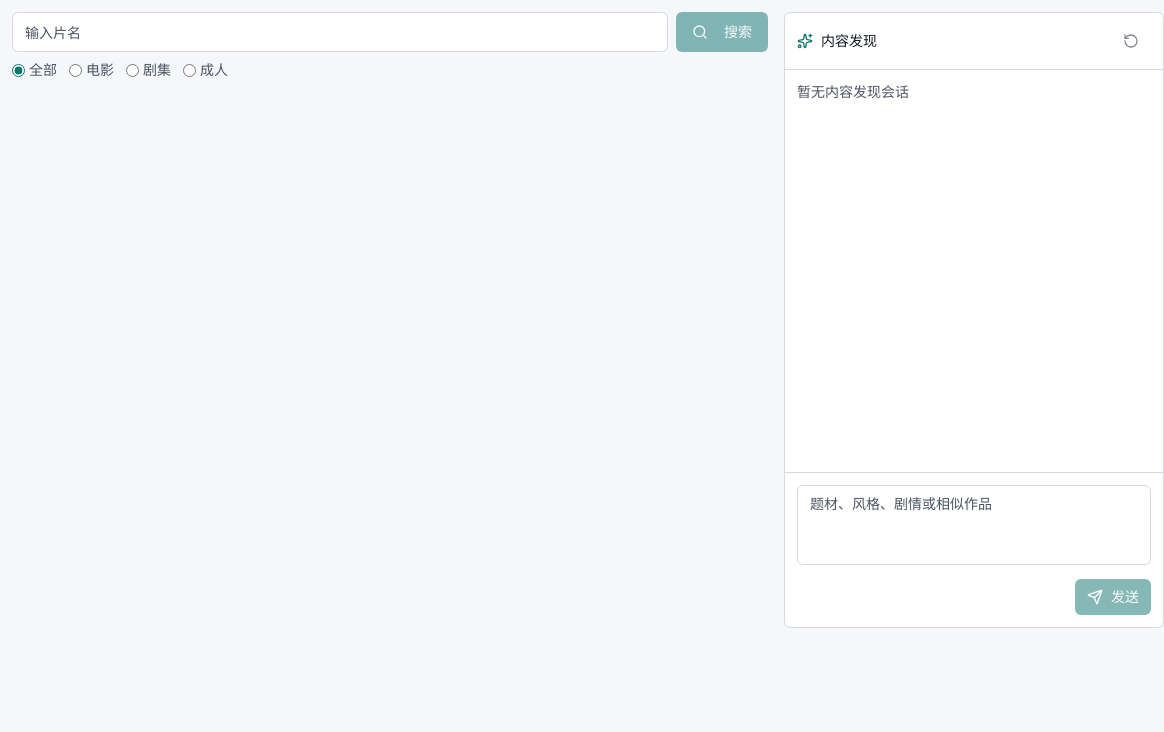
Test: DiscoveryPage › streams markdown content discovery messages
In the text box with test id "content-discovery-input": (974, 525) [797, 485, 1151, 565], type "推荐现代西部片"
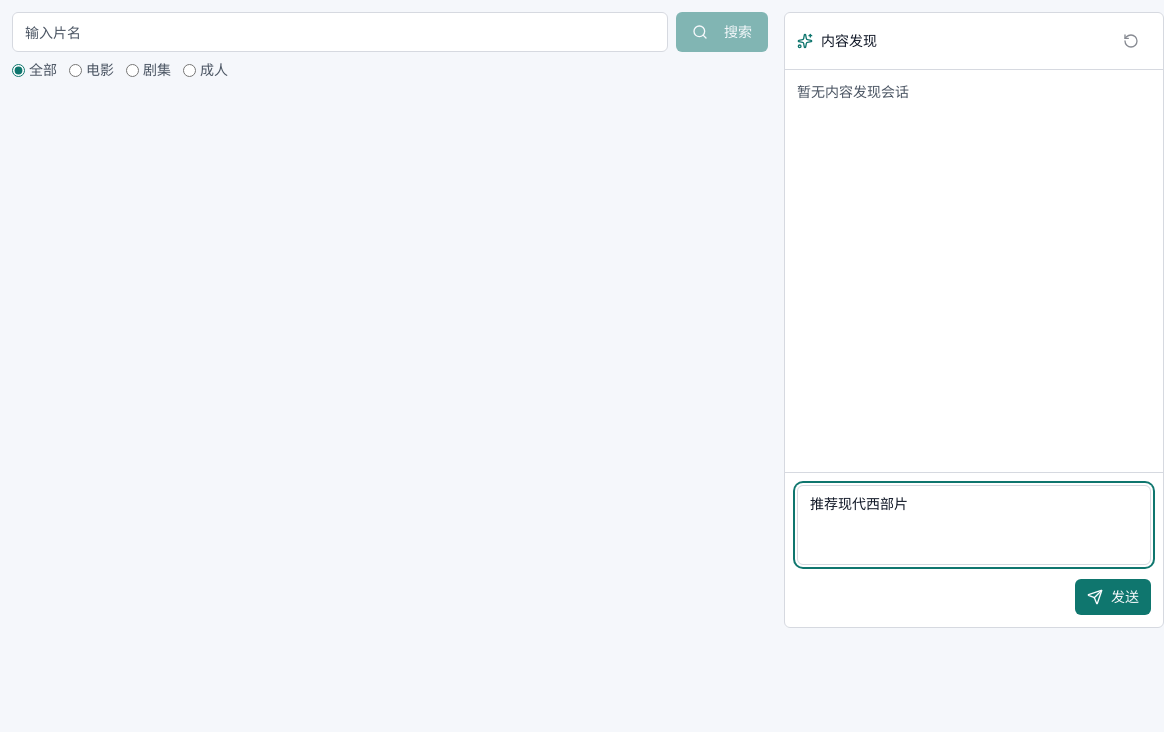
Click the button "发送": (1113, 597) [1075, 579, 1151, 615]
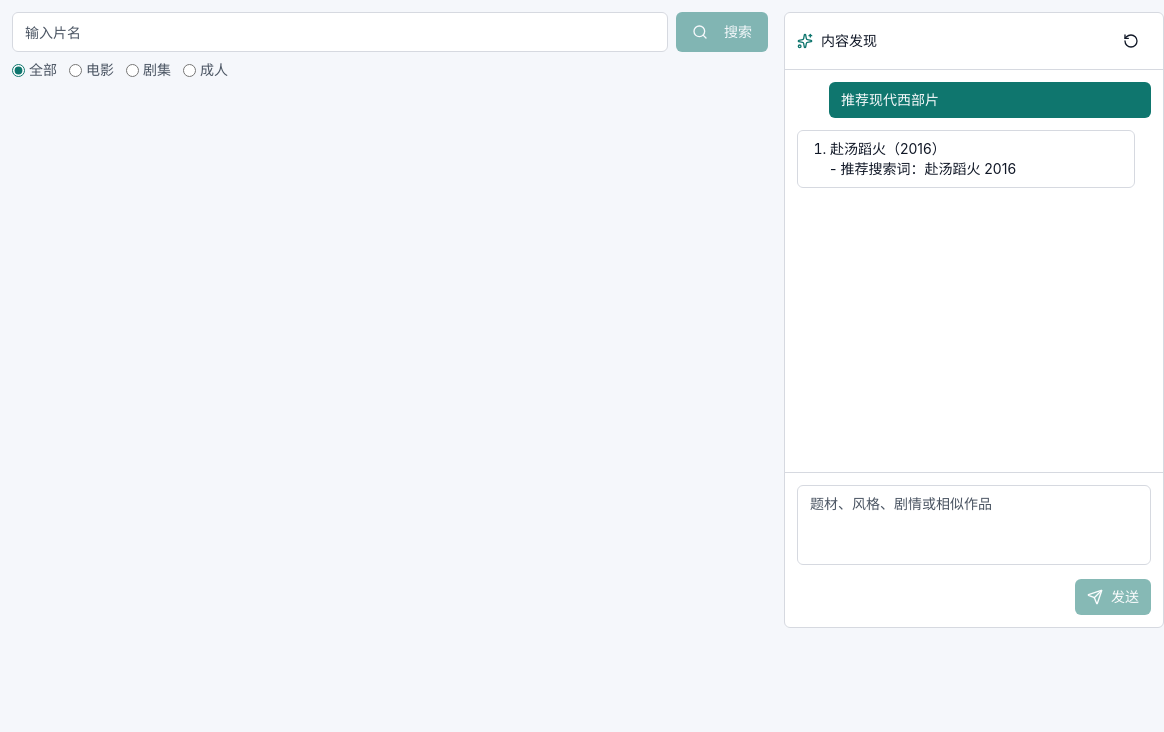
Expected: the text "赴汤蹈火" is shown, [830, 140, 886, 157]
Expected: the list item "赴汤蹈火（2016）- 推荐搜索词：赴汤蹈火 2016" is shown, [830, 140, 1016, 177]
